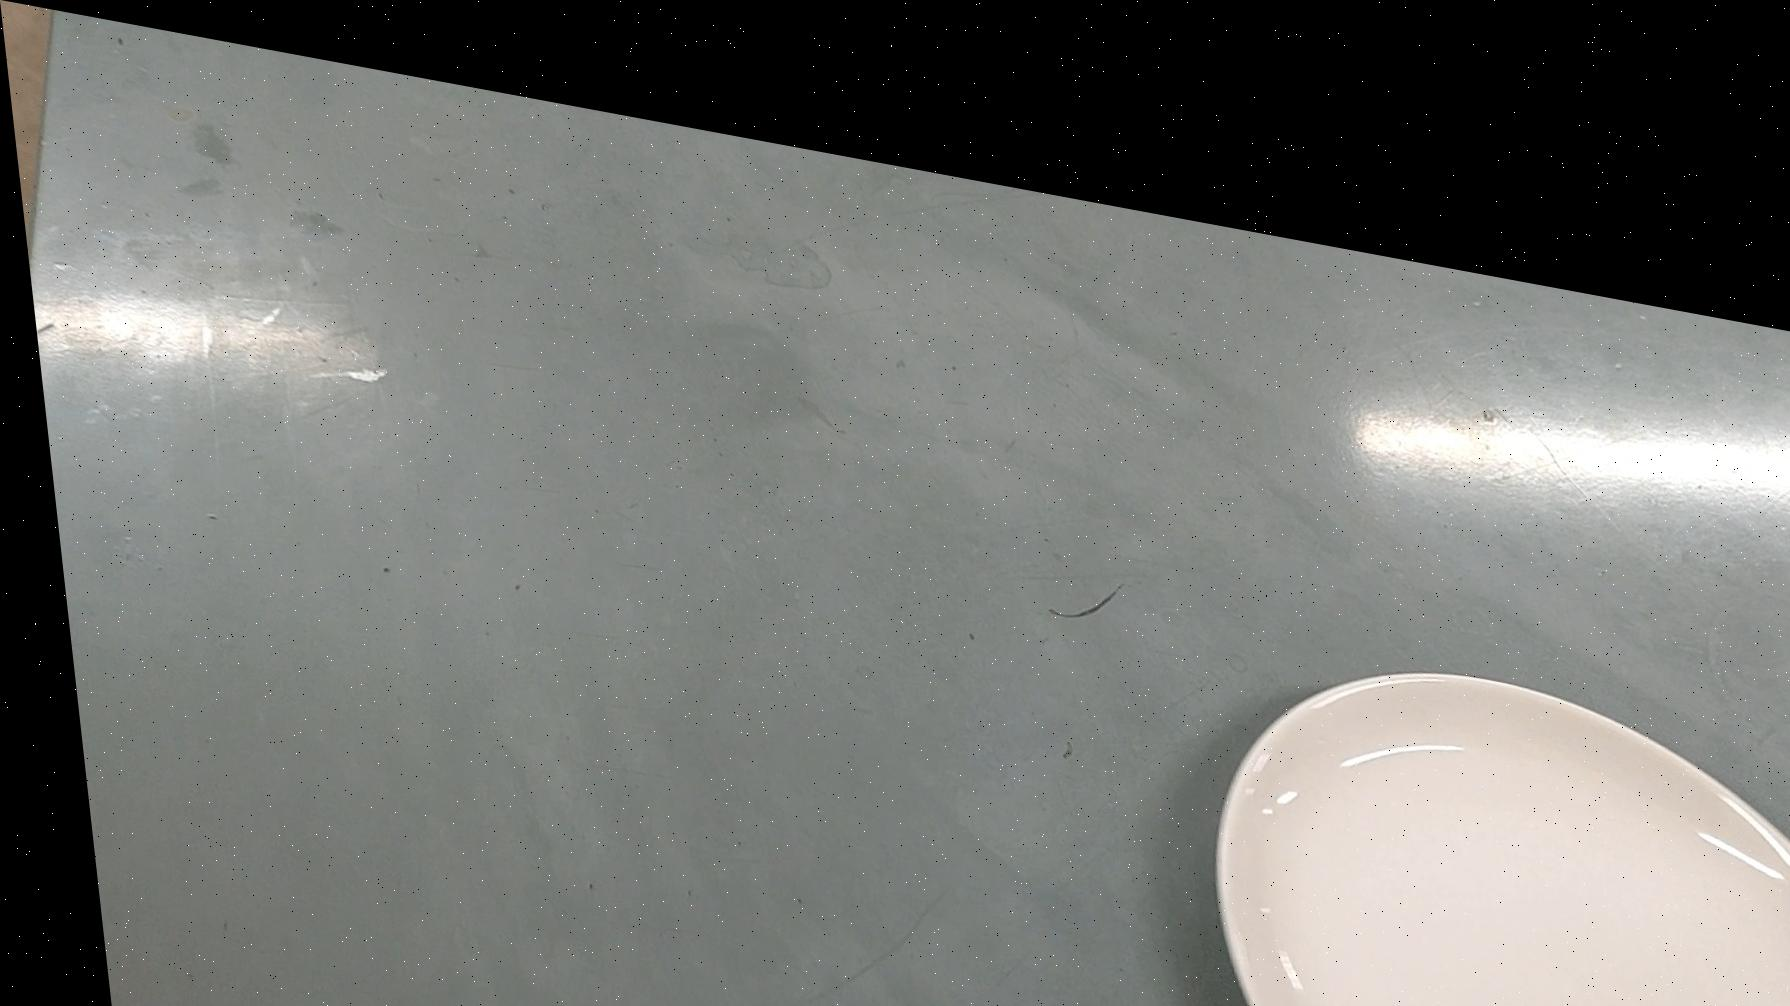plate: (1178, 576, 1790, 1006)
